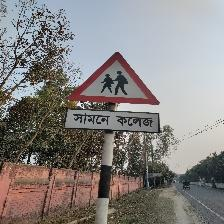College-in-front: (60, 50, 182, 145)
